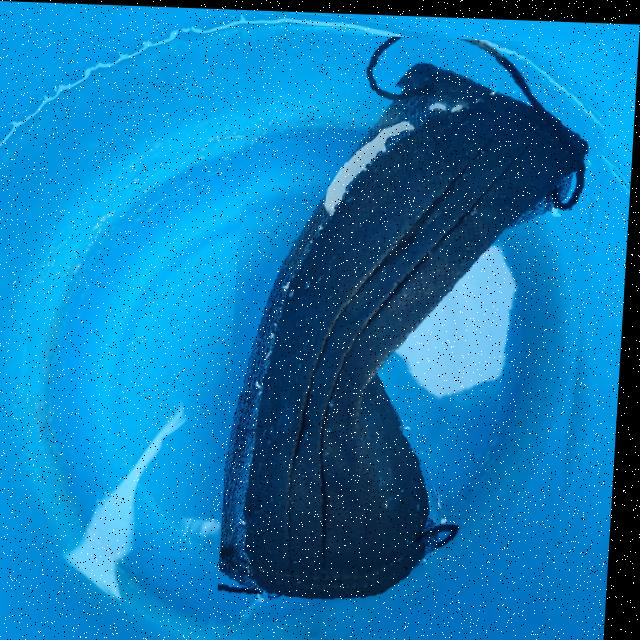litter: (222, 28, 618, 640)
